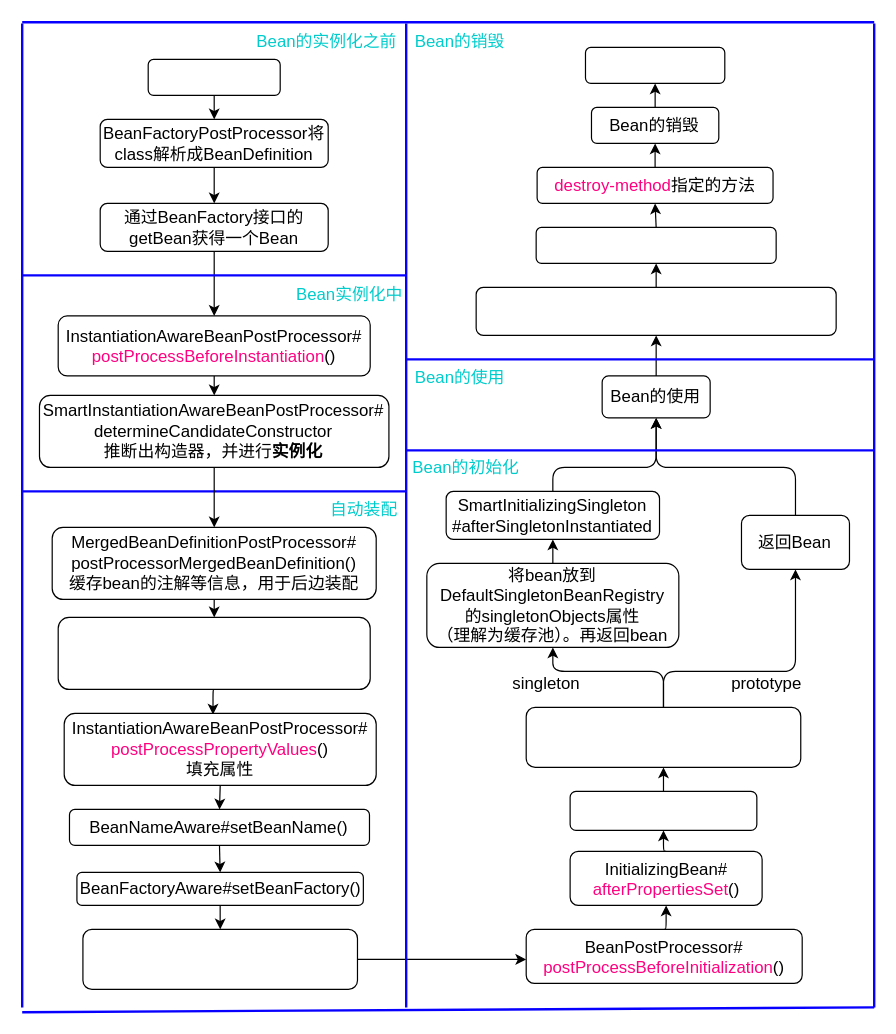
This 896x1034 diagram has some shape labels left out. Each missing label, with the centre of its shape:
"ApplicationContextAware# setApplicationContextAware ()" belongs at [219,958].
"BeanPostProcessor# postProcessAfterInitialization ()" belongs at [663,736].
"DestructionAwareBeanPostProcessor# postProcessBeforeDestruction ()" belongs at [655,310].
"DisposableBean# destroy ()" belongs at [655,244].
"init-method 指定的方法" belongs at [663,810].
"InstantiationAwareBeanPostProcessor# postProcessAfterInstantiation () 判断是否填充属性" belongs at [213,652].
"容器启动" belongs at [213,76].
"容器销毁" belongs at [654,64].
